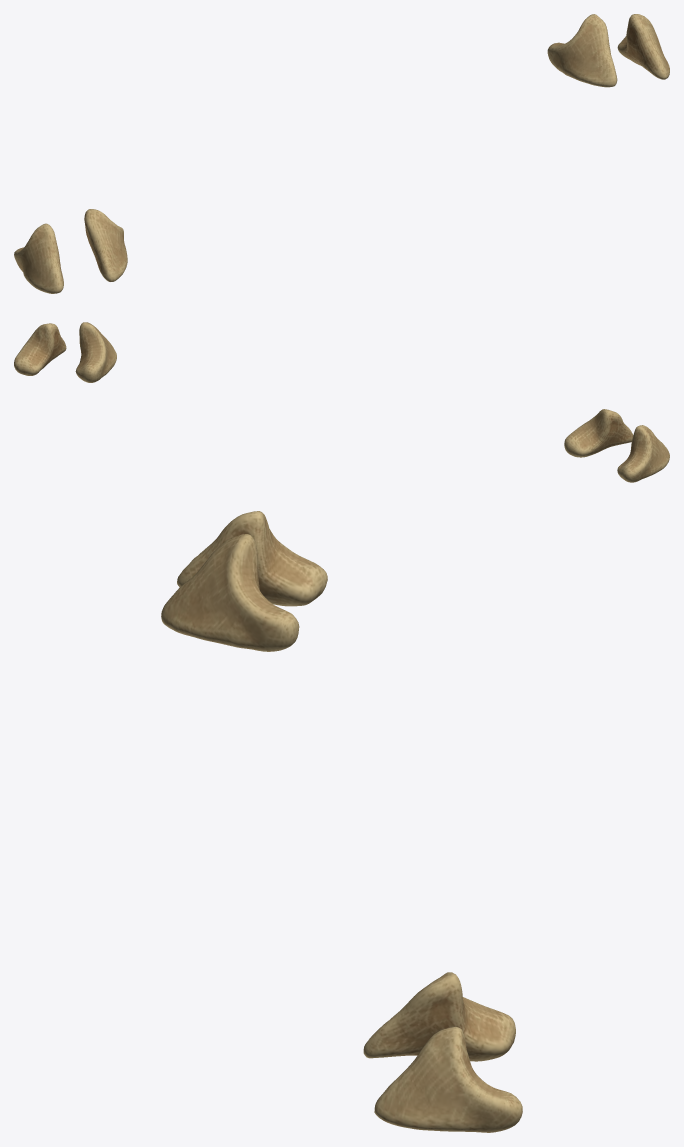
Rendered from Distal Phalanges.glb.
3 renders of one model, top to bottom at view 1: azimuth 30°, elevation 25°; view 2: azimuth 150°, elevation 25°; view 3: azimuth 270°, elevation 25°, orthographic. The views are drawn at different scales.
Parts seen in each view (by area): view 1: Group53631.001; view 2: Group53631.001; view 3: Group53631.001.
Part boxes in pixels (x1,y1,x2,y2): Group53631.001: (14, 14, 669, 293); Group53631.001: (14, 322, 669, 482); Group53631.001: (161, 511, 522, 1132).
Size of the model in its own units: 351 by 36.6 by 94.86.
Materials: 1 (1 with a texture image).
